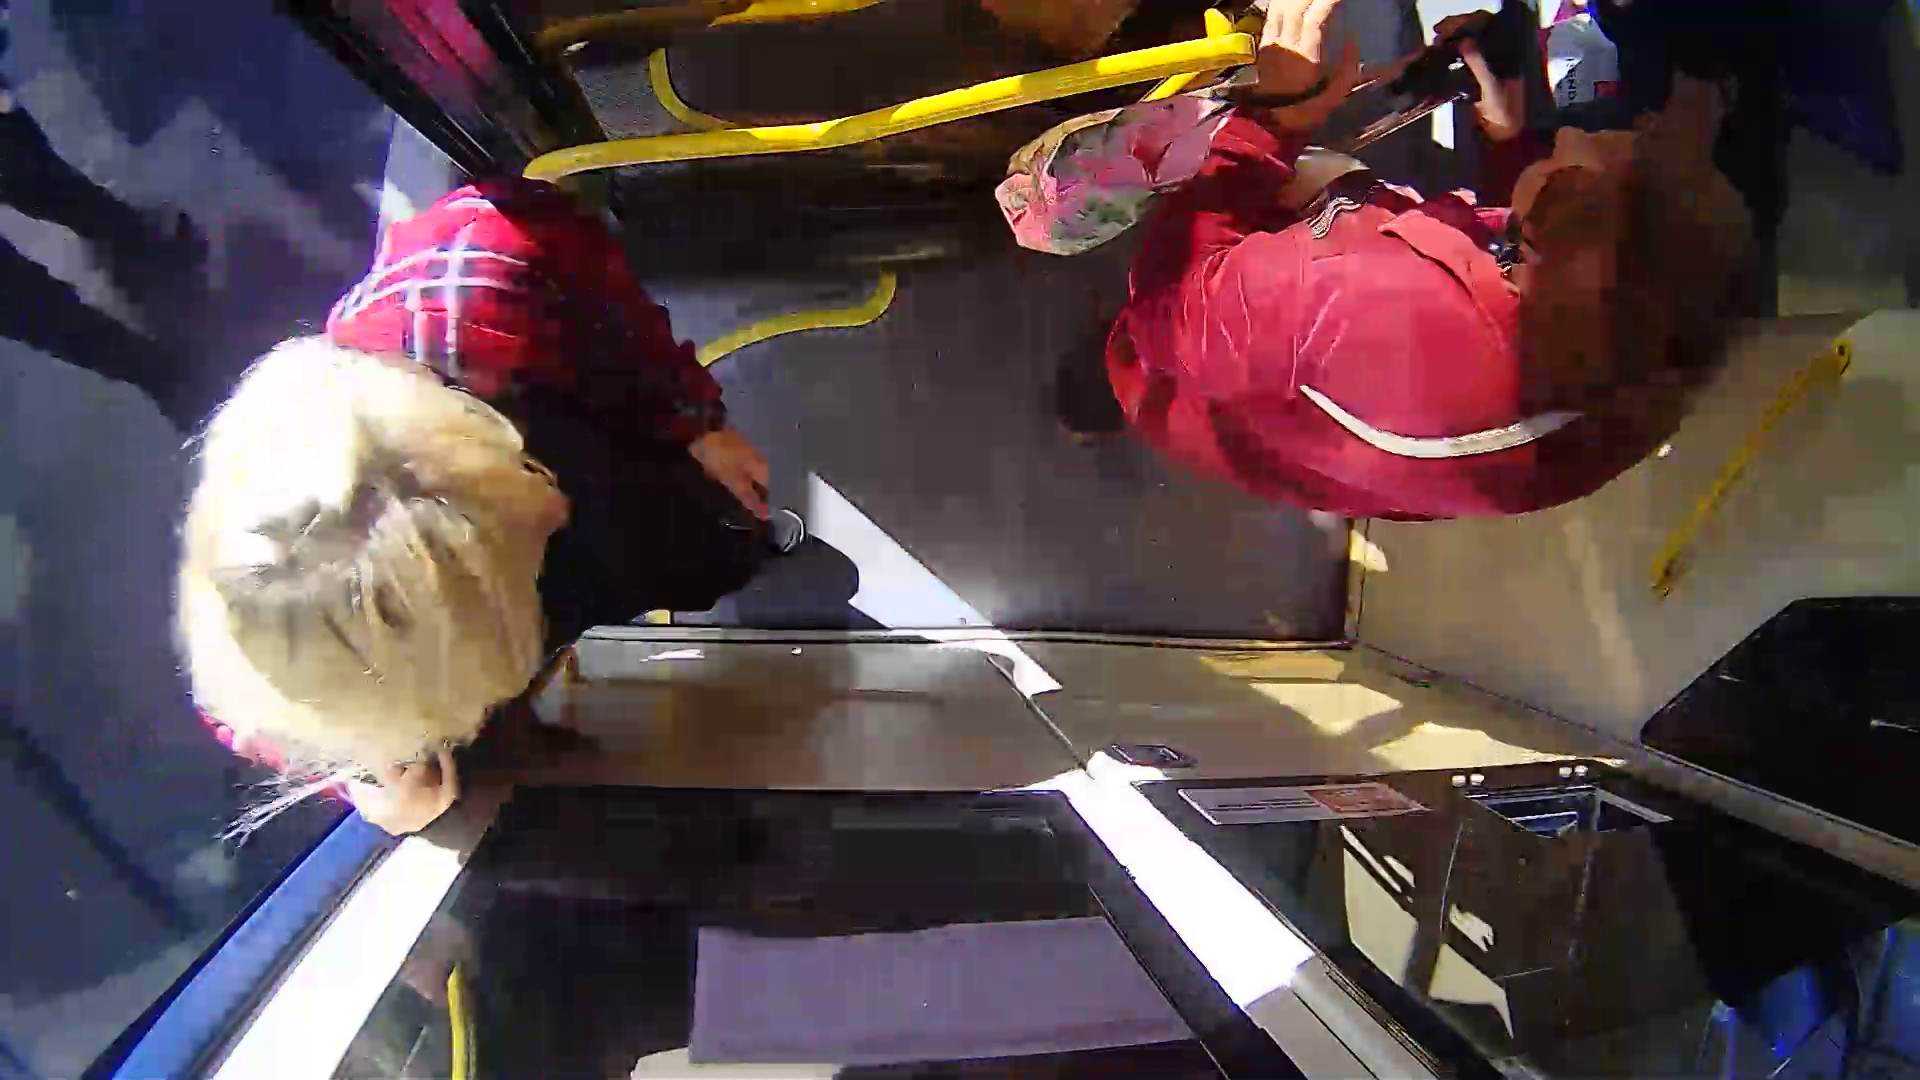person: (134, 209, 879, 832), (995, 69, 1833, 536)
